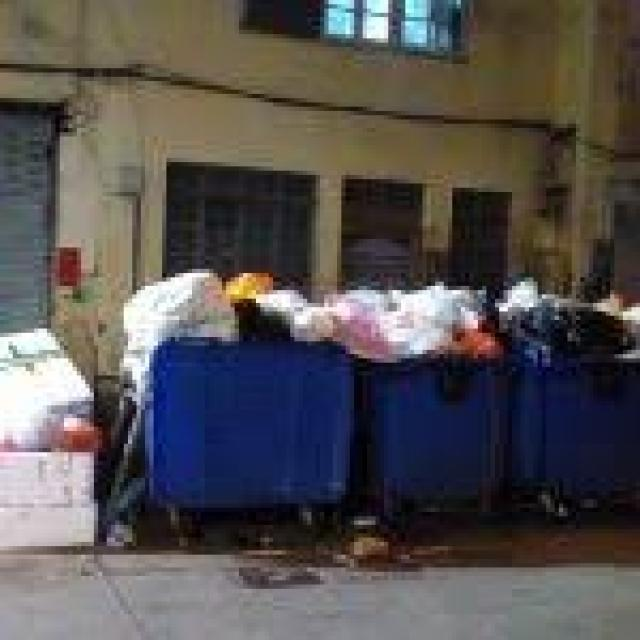garbage: (110, 266, 635, 538)
